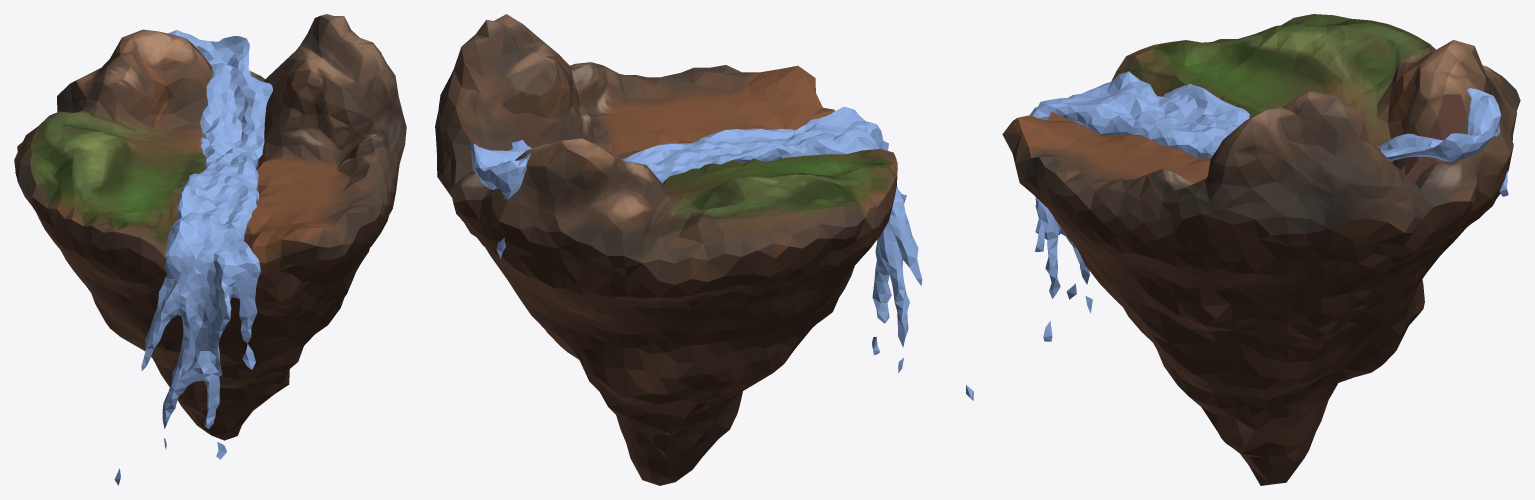
Rendered from floating-island.glb.
3 renders of one model, left to right at view 1: azimuth 30°, elevation 25°; view 2: azimuth 150°, elevation 25°; view 3: azimuth 270°, elevation 25°, orthographic. The views are drawn at different scales.
Parts seen in each view (by area): view 1: WorldTop, Cube, WorldBottom, WorldRiver; view 2: WorldTop, WorldBottom, Cube; view 3: WorldTop, WorldBottom, Cube, WorldRiver.
Part boxes in pixels (bbox=[...]): WorldTop: bbox=[14, 14, 406, 274]; Cube: bbox=[114, 30, 272, 485]; WorldBottom: bbox=[31, 177, 397, 440]; WorldRiver: bbox=[177, 39, 271, 244]; WorldTop: bbox=[435, 14, 897, 284]; WorldBottom: bbox=[439, 179, 893, 485]; Cube: bbox=[470, 106, 973, 400]; WorldTop: bbox=[1002, 14, 1520, 239]; WorldBottom: bbox=[1020, 146, 1513, 485]; Cube: bbox=[1030, 71, 1508, 341]; WorldRiver: bbox=[1399, 94, 1466, 182].
Size of the model in its own units: 15.35 by 15.64 by 15.72.
Materials: 4 (1 with a texture image).
